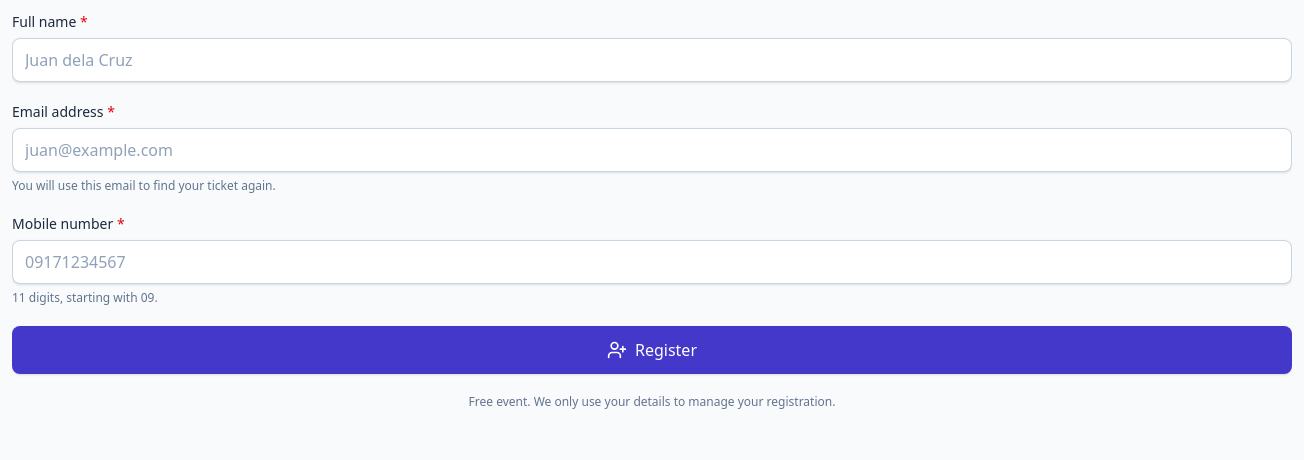
RegistrationForm › shows errors next to every empty required field and does not submit
Click the button "Register" at (652, 350), box [12,326,1292,374]
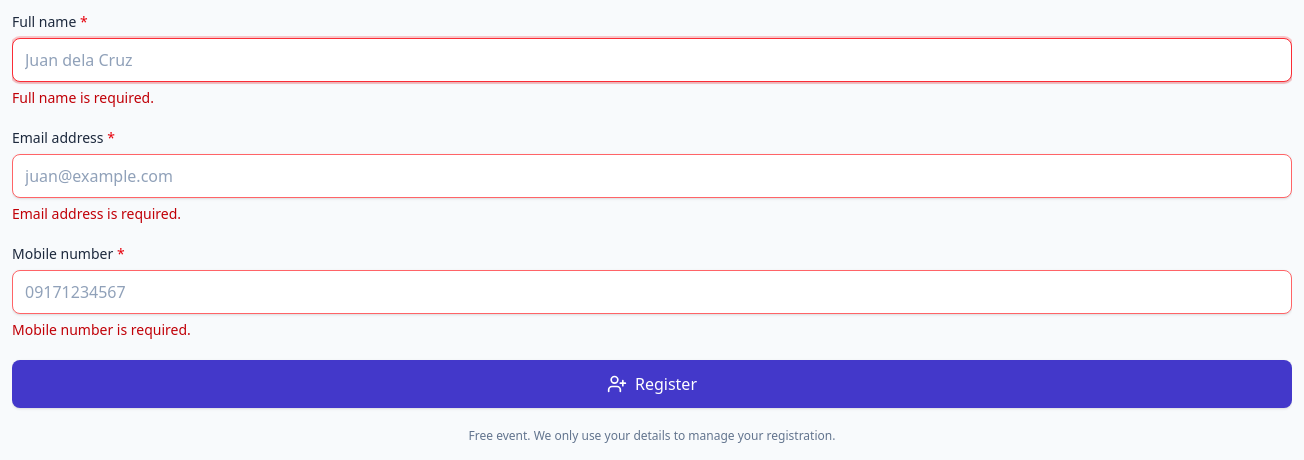
Expected: the text "Full name is required." is shown, [12,88,154,107]
Expected: the text "Email address is required." is shown, [12,204,181,223]
Expected: the text "Mobile number is required." is shown, [12,320,191,339]
